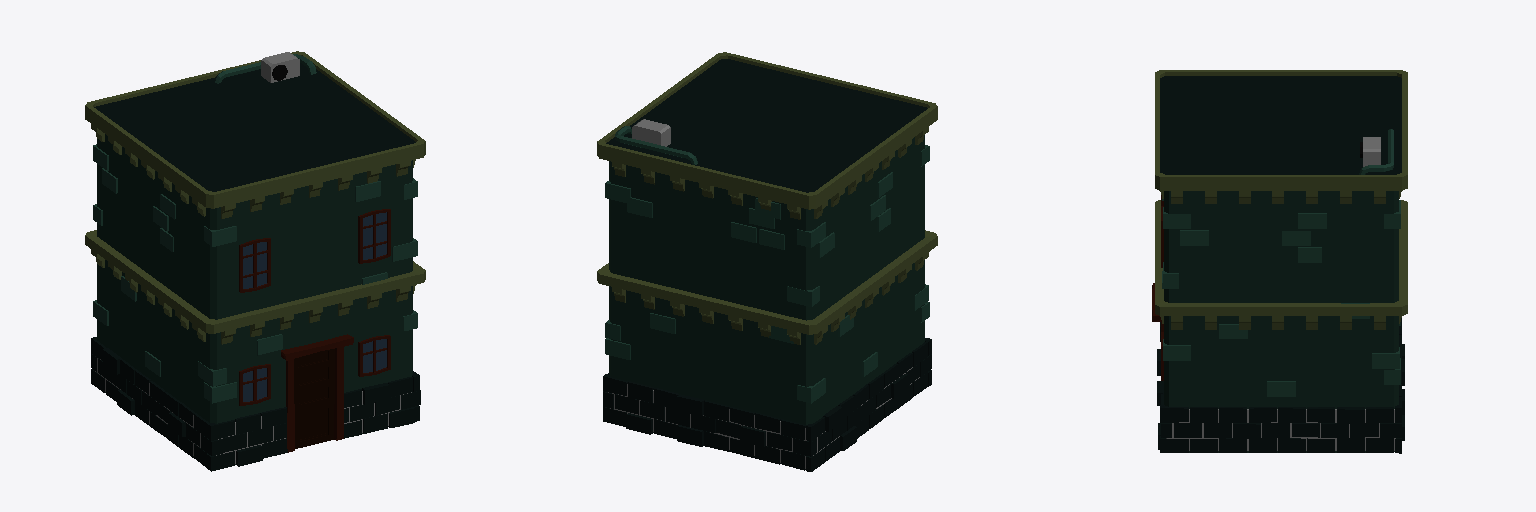
The model's file is 2Story_2_Mat.obj.
3 views of the same model, side by side, from view 1: azimuth 30°, elevation 25°; view 2: azimuth 150°, elevation 25°; view 3: azimuth 270°, elevation 25° (orthographic).
Parts seen in each view (by area): view 1: 2Story_2_Mat_Cube.034; view 2: 2Story_2_Mat_Cube.034; view 3: 2Story_2_Mat_Cube.034.
Boxes of the visible parts, x1=… form: 2Story_2_Mat_Cube.034: x1=85, y1=51, x2=425, y2=471; 2Story_2_Mat_Cube.034: x1=597, y1=52, x2=937, y2=471; 2Story_2_Mat_Cube.034: x1=1152, y1=70, x2=1407, y2=453.
Size of the model in its own units: 2.16 by 2.76 by 2.17.